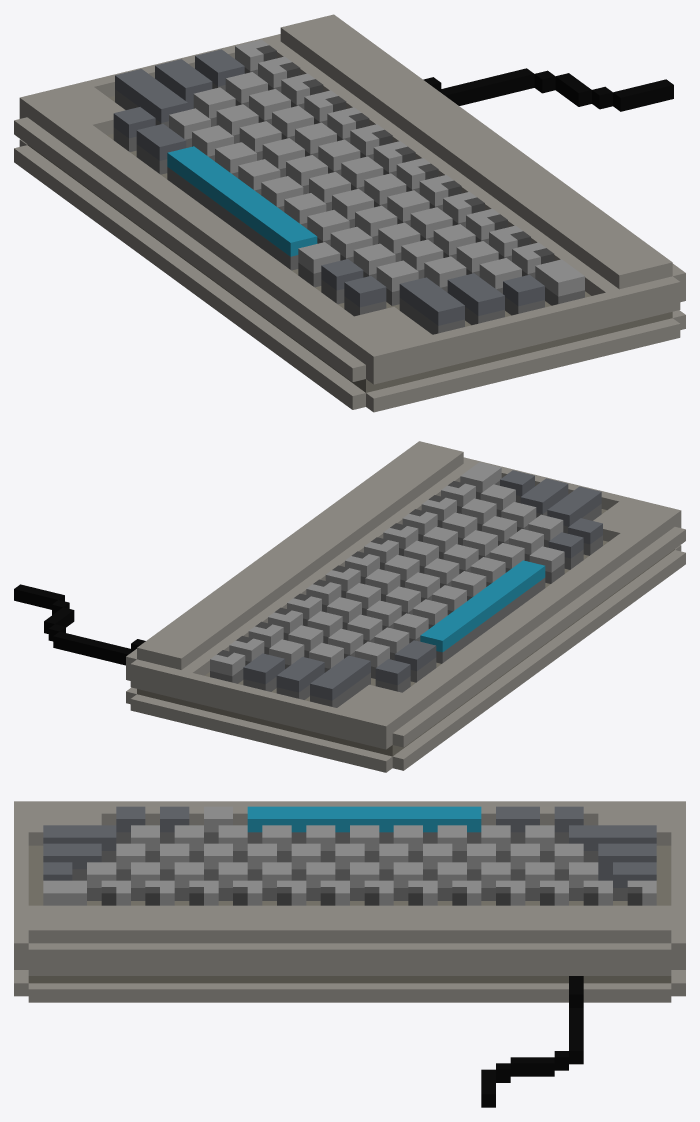
The model's file is 1980s PC Keyboard FreshBlue.fbx.
3 renders of one model, top to bottom at view 1: azimuth 30°, elevation 25°; view 2: azimuth 150°, elevation 25°; view 3: azimuth 270°, elevation 25°, orthographic. The views are drawn at different scales.
Visible parts, largest first — view 1: 1980sFreshPCKeyboard; view 2: 1980sFreshPCKeyboard; view 3: 1980sFreshPCKeyboard.
Part boxes in pixels (left/top/right/bottom): 1980sFreshPCKeyboard: left=14, top=14, right=685, bottom=412; 1980sFreshPCKeyboard: left=14, top=441, right=685, bottom=772; 1980sFreshPCKeyboard: left=14, top=801, right=685, bottom=1107.
Bounding box in the file's own units: 4200 × 500 × 4600.
